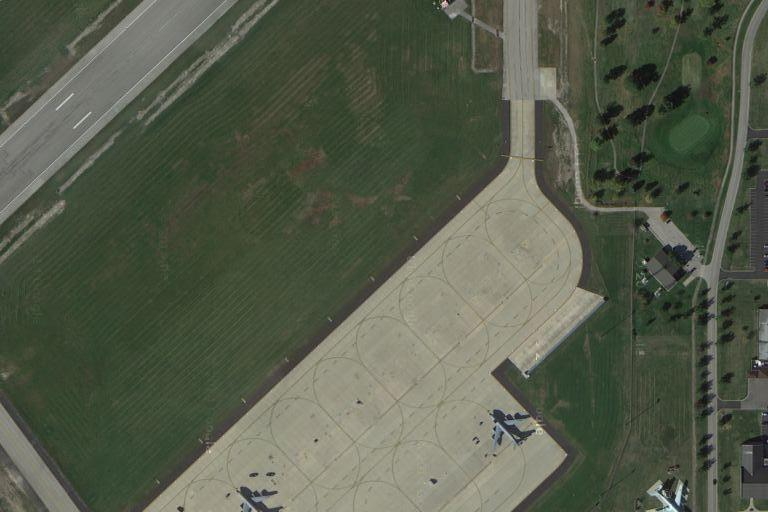KC-135: (485, 408, 536, 452)
